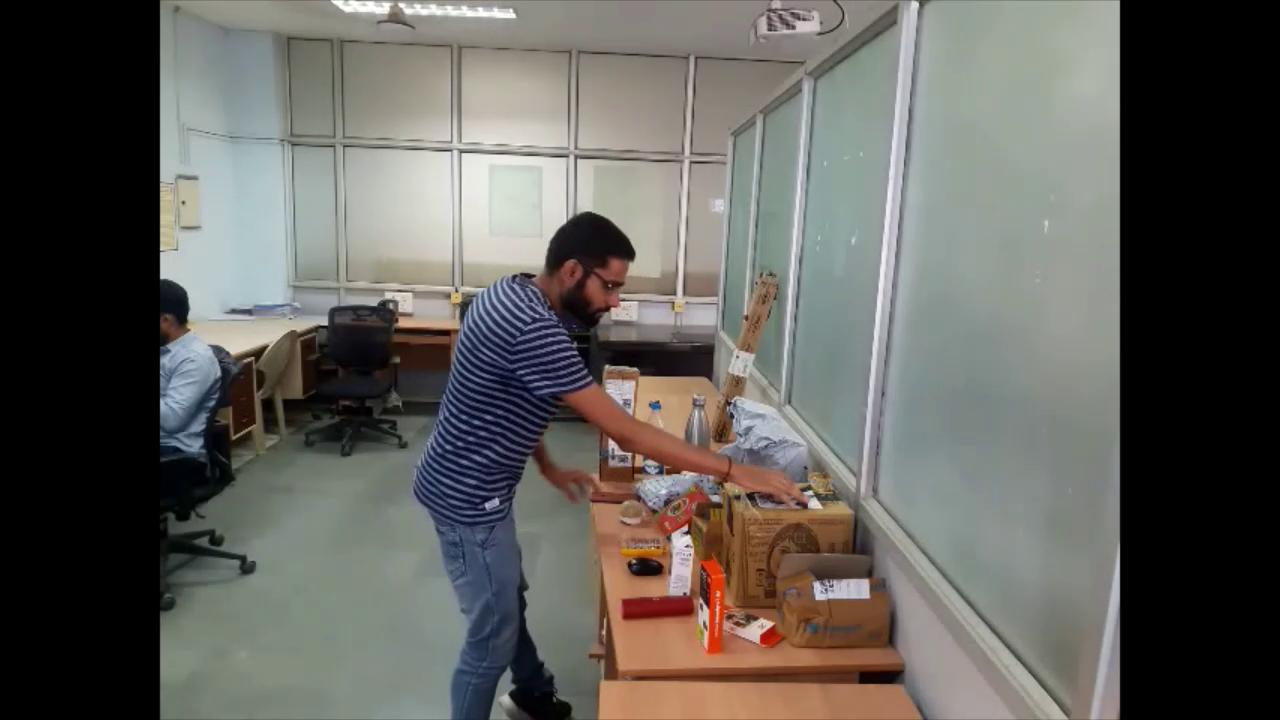Normal: (409, 218, 698, 720)
